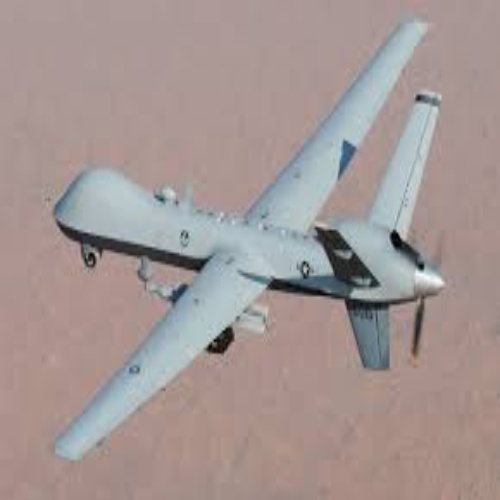uav: (47, 16, 447, 467)
